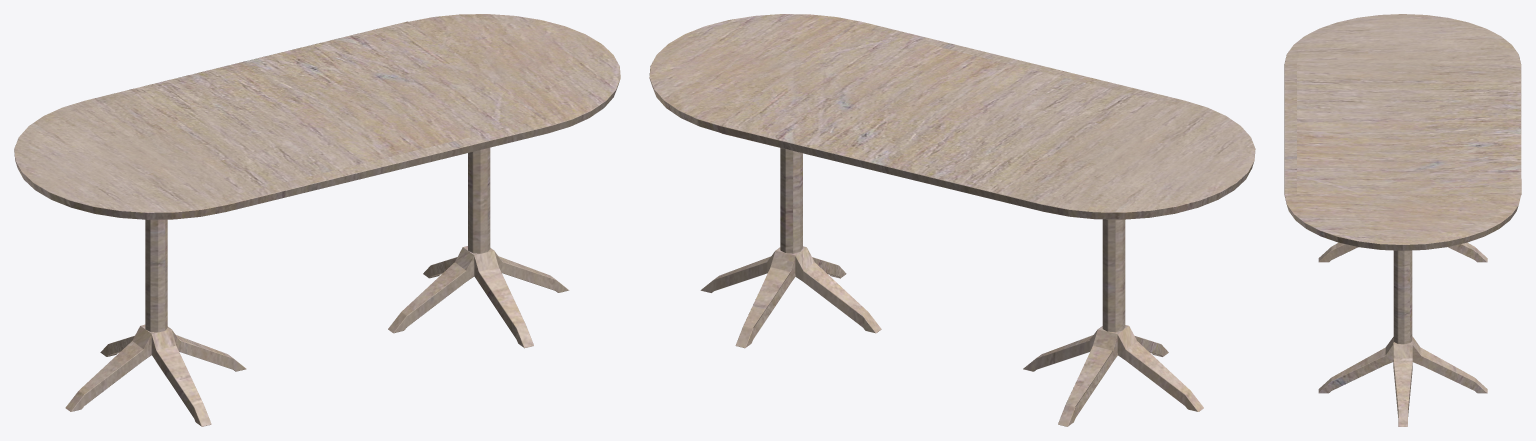
File: Table2.fbx
The picture shows the model from 3 angles, left to right: view 1: azimuth 30°, elevation 25°; view 2: azimuth 150°, elevation 25°; view 3: azimuth 270°, elevation 25°; orthographic projection. The views are drawn at different scales.
Visible parts, largest first — view 1: Table_2; view 2: Table_2; view 3: Table_2.
Part boxes in pixels (x1,y1,x2,y2): Table_2: (14, 14, 620, 426); Table_2: (649, 14, 1255, 426); Table_2: (1284, 14, 1521, 426).
Bounding box in the file's own units: 706 × 281 × 306.
